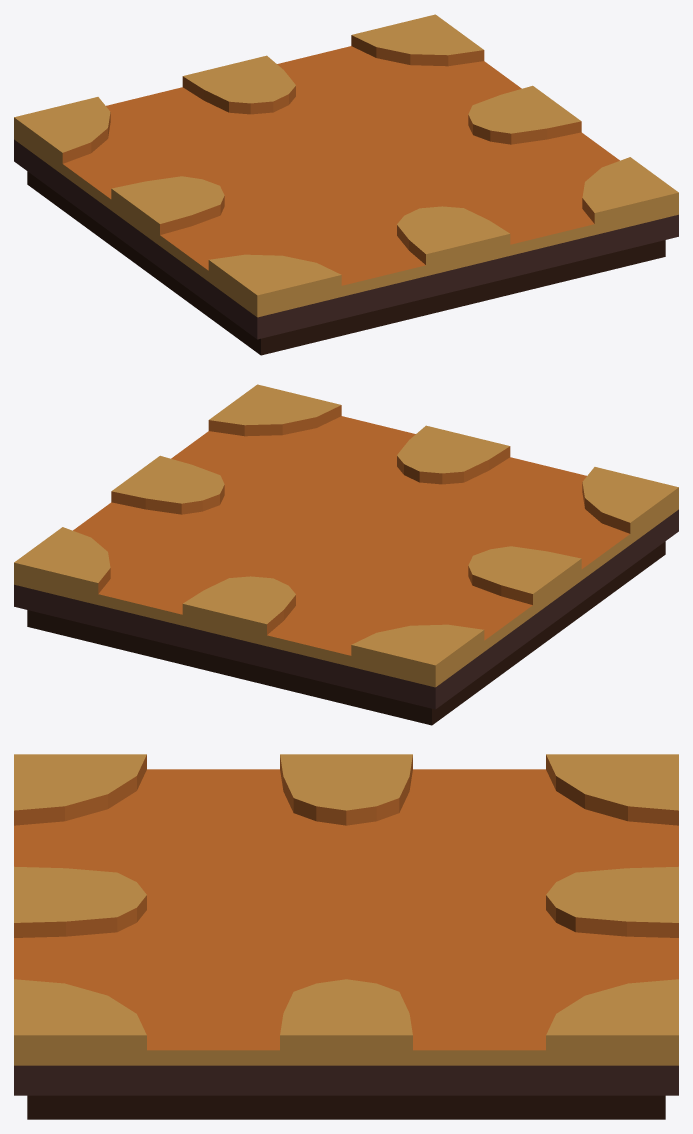
The model's file is Tile_Dirt_Road_Cross.fbx.
The picture shows the model from 3 angles, top to bottom: view 1: azimuth 30°, elevation 25°; view 2: azimuth 150°, elevation 25°; view 3: azimuth 270°, elevation 25°; orthographic projection. The views are drawn at different scales.
Visible parts, largest first — view 1: Tile_Dirt_Road_Cross; view 2: Tile_Dirt_Road_Cross; view 3: Tile_Dirt_Road_Cross.
Boxes of the visible parts, x1=… form: Tile_Dirt_Road_Cross: x1=14, y1=14, x2=678, y2=355; Tile_Dirt_Road_Cross: x1=14, y1=384, x2=678, y2=725; Tile_Dirt_Road_Cross: x1=14, y1=754, x2=678, y2=1119.
Size of the model in its own units: 100 by 14.9 by 100.
